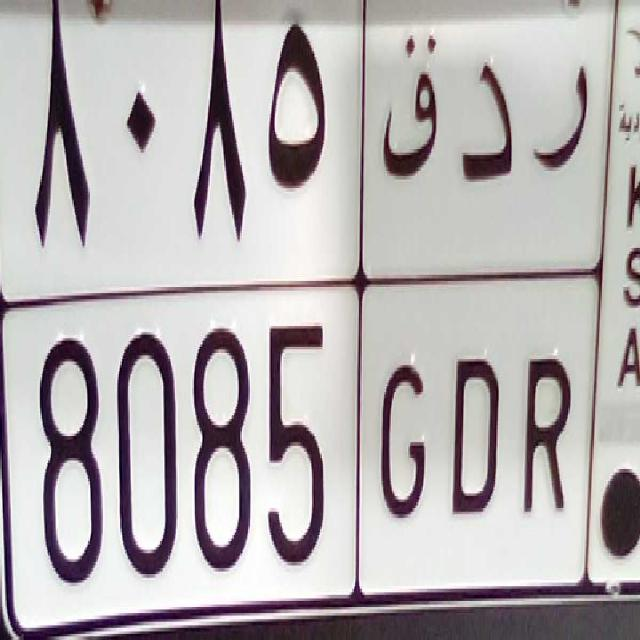license_plate: (12, 287, 586, 619)
